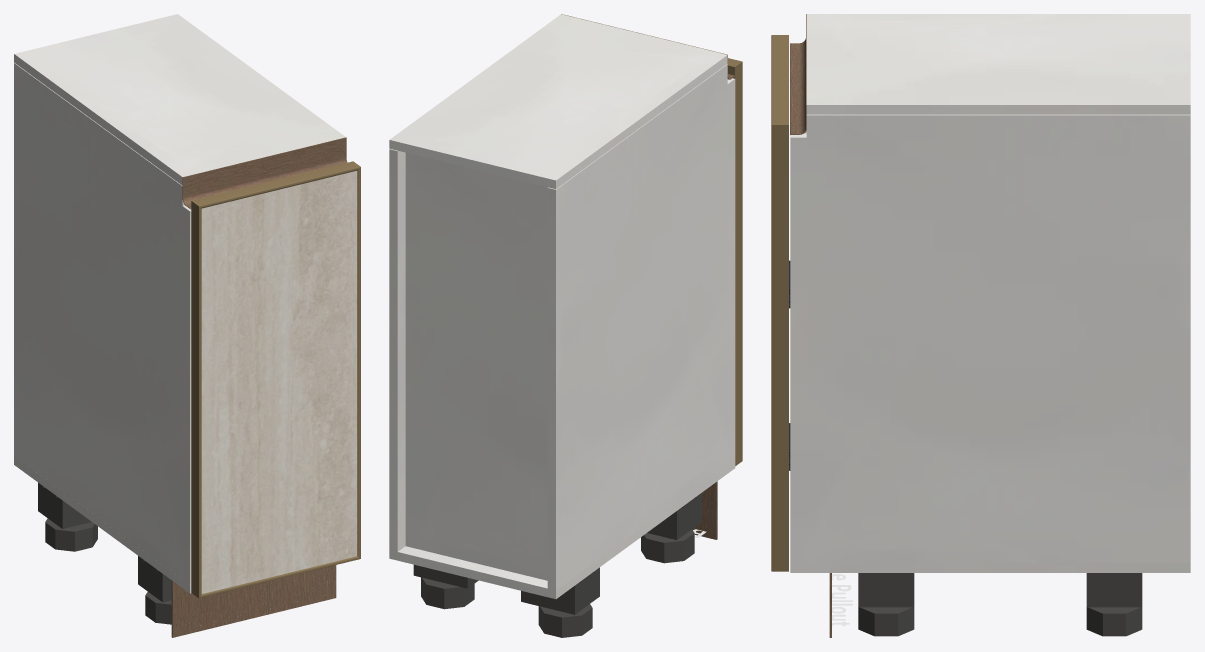
File: BC-AC-CJ-ST-BPO-LHS-XXX-300-720-560-15.glb
The picture shows the model from 3 angles, left to right: view 1: azimuth 30°, elevation 25°; view 2: azimuth 150°, elevation 25°; view 3: azimuth 270°, elevation 25°; orthographic projection. The views are drawn at different scales.
Visible parts, largest first — view 1: TP_node, Object_node_27, TP_node_1, Object_node_29, ExtrSplGeo, Extrusion_node_1, Extrusion, TP, Extrusion_node, Foot, Plate, Plate_node_0 (+2 smaller); view 2: TP_node, TP_node_2, TP_node_1, TP_node_0, TP, Extrusion_node_1, Plate, Foot, Foot_node_0, Foot_node, Plate_node_0, Object_node_29 (+1 smaller); view 3: TP_node_0, TP_node_1, Extrusion_node, TP, Plate_node_1, Plate_node, Extrusion, ExtrSplGeo, Foot_node, Foot_node_1.
Part boxes in pixels (<box>): TP_node: <box>14,63,191,584</box>; Object_node_27: <box>201,171,357,593</box>; TP_node_1: <box>14,14,345,185</box>; Object_node_29: <box>171,565,336,637</box>; ExtrSplGeo: <box>182,137,347,209</box>; Extrusion_node_1: <box>191,201,201,598</box>; Extrusion: <box>191,161,360,208</box>; TP: <box>14,456,191,593</box>; Extrusion_node: <box>357,167,360,558</box>; Foot: <box>45,518,97,551</box>; Plate: <box>38,482,91,528</box>; Plate_node_0: <box>138,556,171,602</box>; TP_node: <box>547,64,735,590</box>; TP_node_2: <box>405,152,547,580</box>; TP_node_1: <box>389,14,727,188</box>; TP_node_0: <box>389,149,405,551</box>; TP: <box>389,460,735,599</box>; Extrusion_node_1: <box>728,62,742,465</box>; Plate: <box>521,567,599,614</box>; Foot: <box>538,604,592,637</box>; Foot_node_0: <box>641,529,694,563</box>; Foot_node: <box>421,577,474,609</box>; Plate_node_0: <box>647,493,701,539</box>; Object_node_29: <box>692,481,717,539</box>; TP_node_0: <box>790,114,1190,563</box>; TP_node_1: <box>806,14,1190,114</box>; Extrusion_node: <box>771,125,788,571</box>; TP: <box>790,563,1190,572</box>; Plate_node_1: <box>858,573,914,607</box>; Plate_node: <box>1086,573,1142,607</box>; Extrusion: <box>771,35,788,124</box>; ExtrSplGeo: <box>790,14,806,134</box>; Foot_node: <box>1086,607,1142,636</box>; Foot_node_1: <box>858,607,914,636</box>.
Size of what is drawn, in the model's own units: 0.3 by 0.82 by 0.5842.
Materials: 9 (3 with a texture image).
